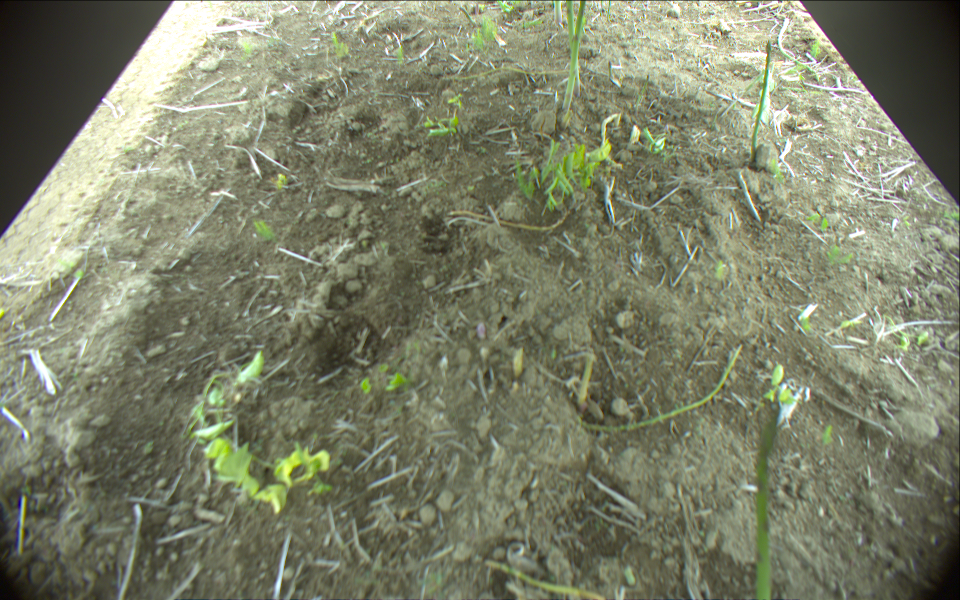aspa: (576, 345, 741, 427), (753, 418, 779, 600), (486, 561, 605, 600), (562, 1, 586, 111), (751, 42, 771, 155), (777, 16, 821, 66), (566, 1, 579, 98), (576, 354, 595, 403), (512, 347, 524, 378), (460, 8, 475, 23), (554, 1, 561, 24), (607, 1, 612, 24)
